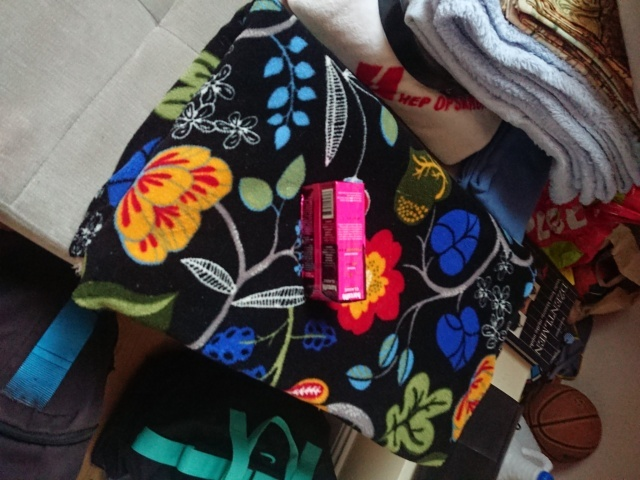Barcaffe Classic Original 225g: (297, 178, 370, 306)
